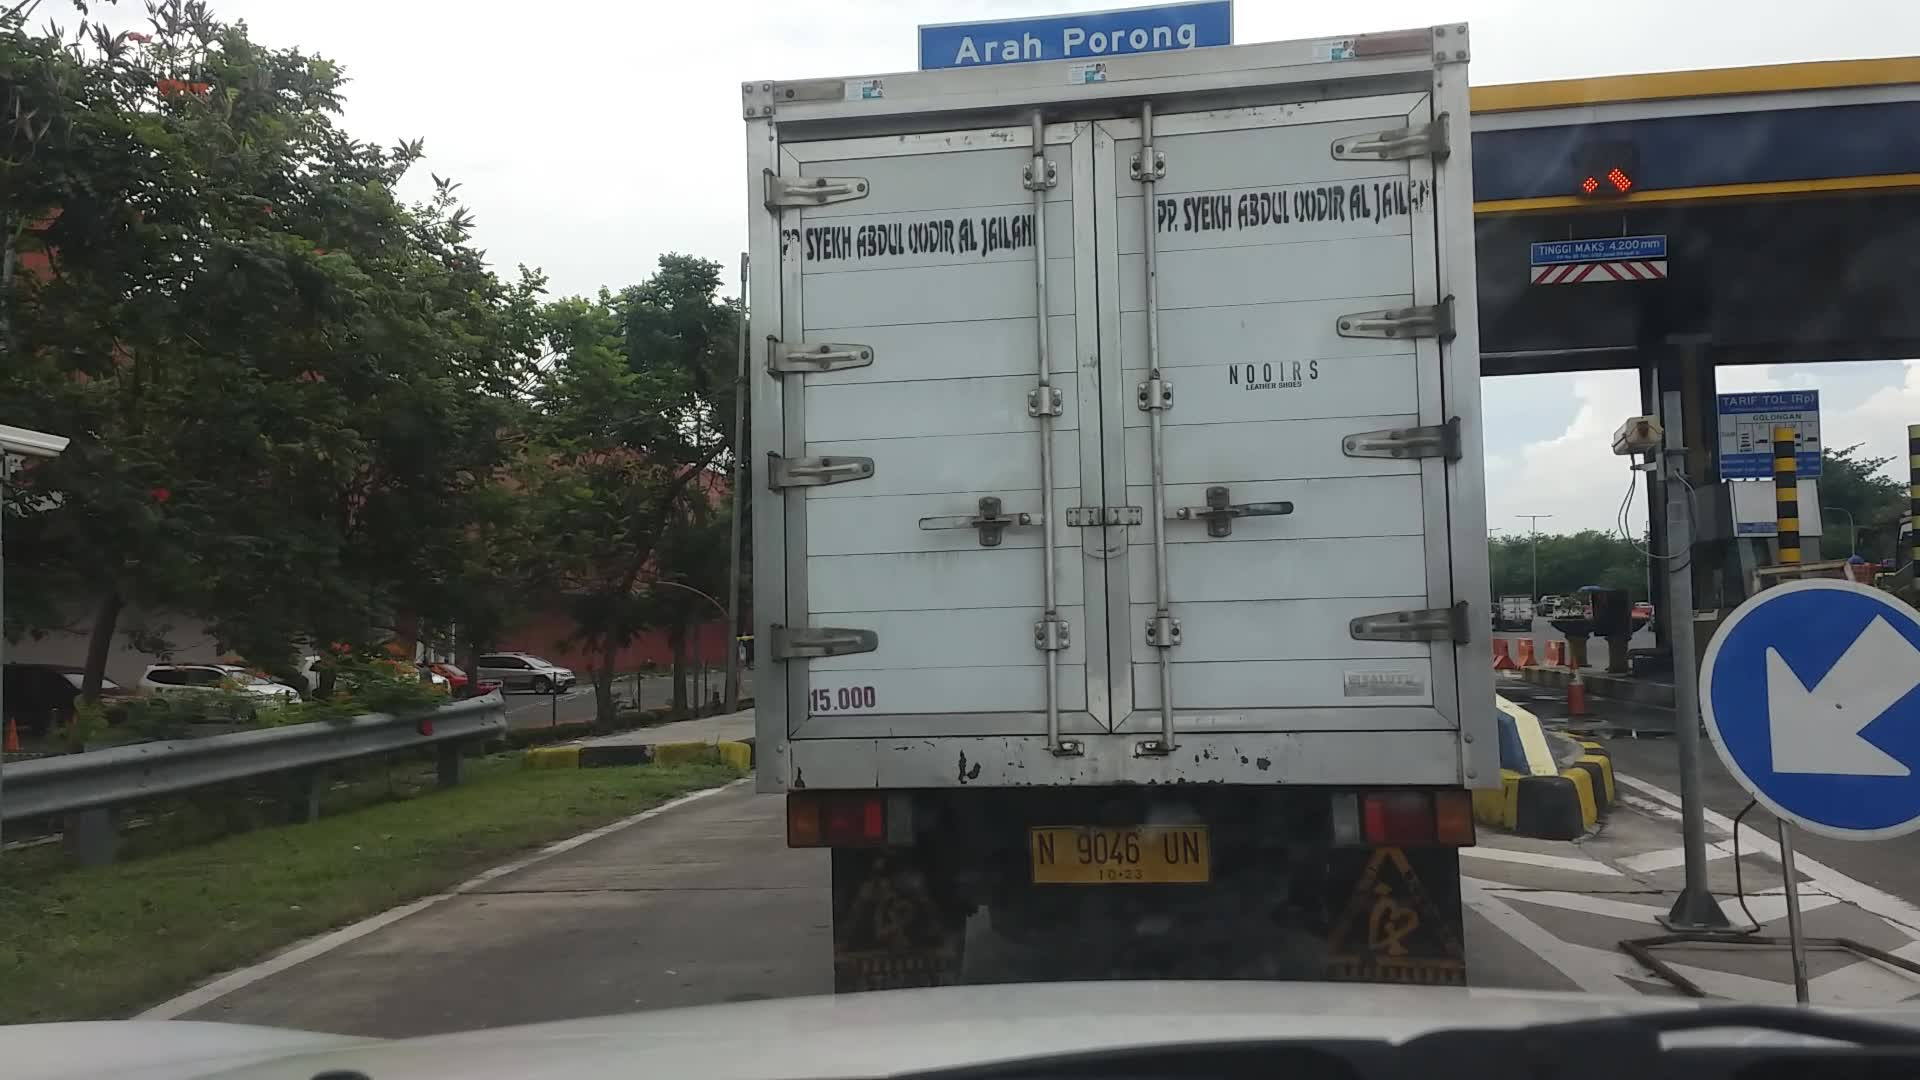plate_positive: (1029, 825, 1211, 885)
